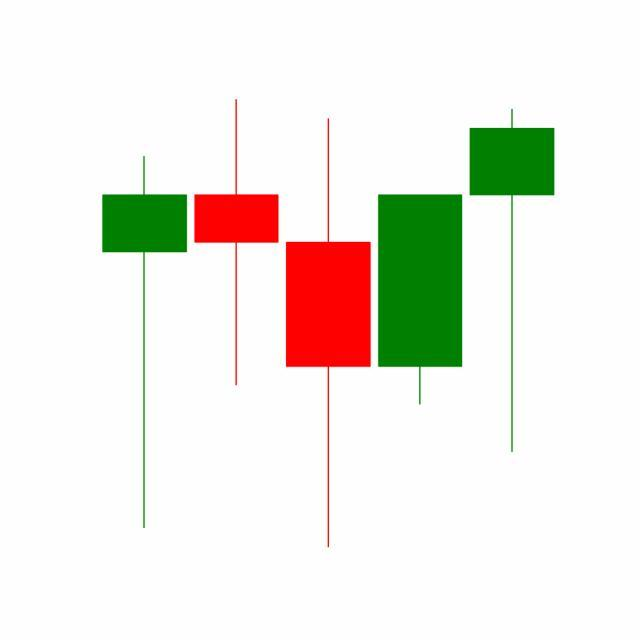Hanging Man: (466, 106, 559, 457)
